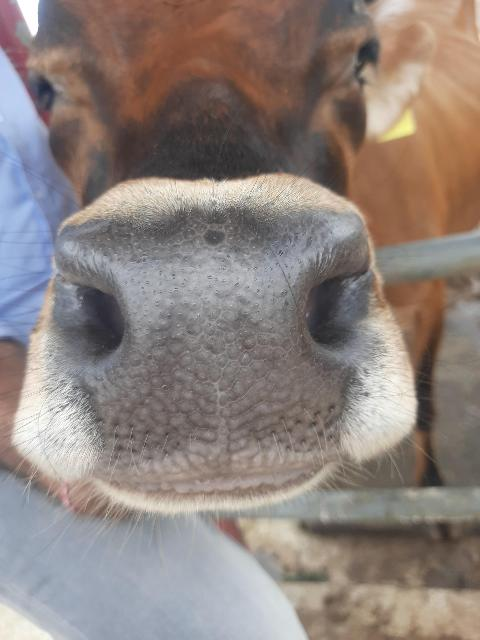Muzzle: (82, 232, 328, 464)
